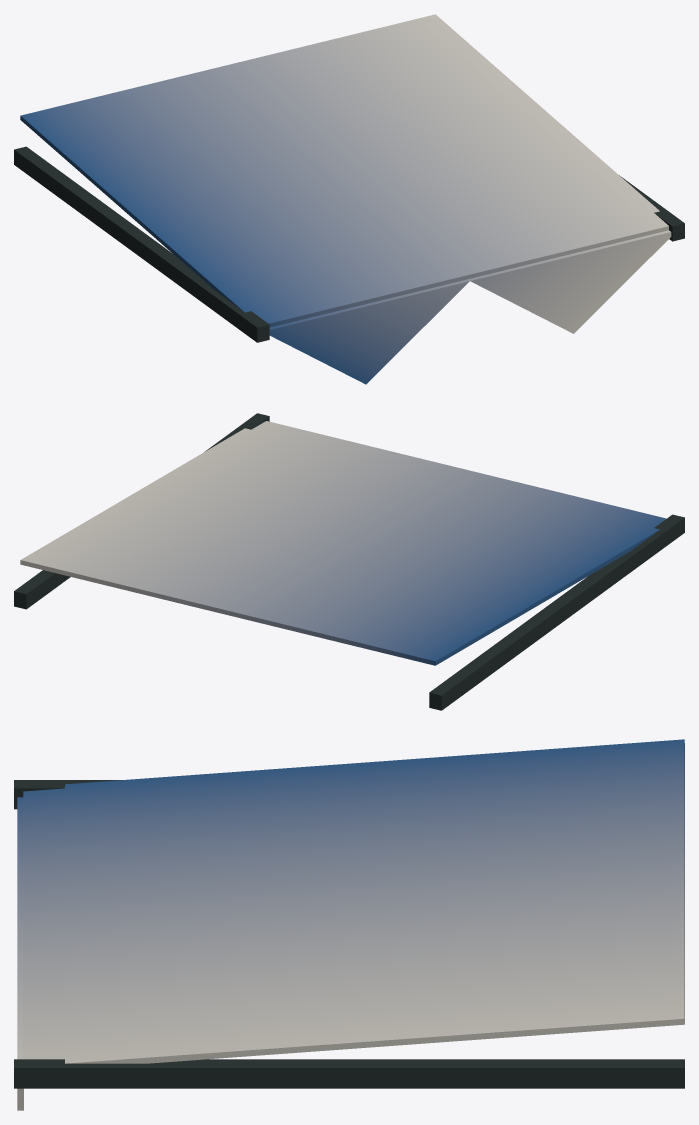
The model's file is mai_hien_xanh.glb.
3 views of the same model, one above another, from view 1: azimuth 30°, elevation 25°; view 2: azimuth 150°, elevation 25°; view 3: azimuth 270°, elevation 25° (orthographic). The views are drawn at different scales.
Parts seen in each view (by area): view 1: mai_hien_xanh; view 2: mai_hien_xanh; view 3: mai_hien_xanh.
Part boxes in pixels (<box>): mai_hien_xanh: <box>14,14,684,384</box>; mai_hien_xanh: <box>14,413,684,710</box>; mai_hien_xanh: <box>14,739,684,1110</box>.
Bounding box in the file's own units: 1.03 × 0.27 × 1.01.
